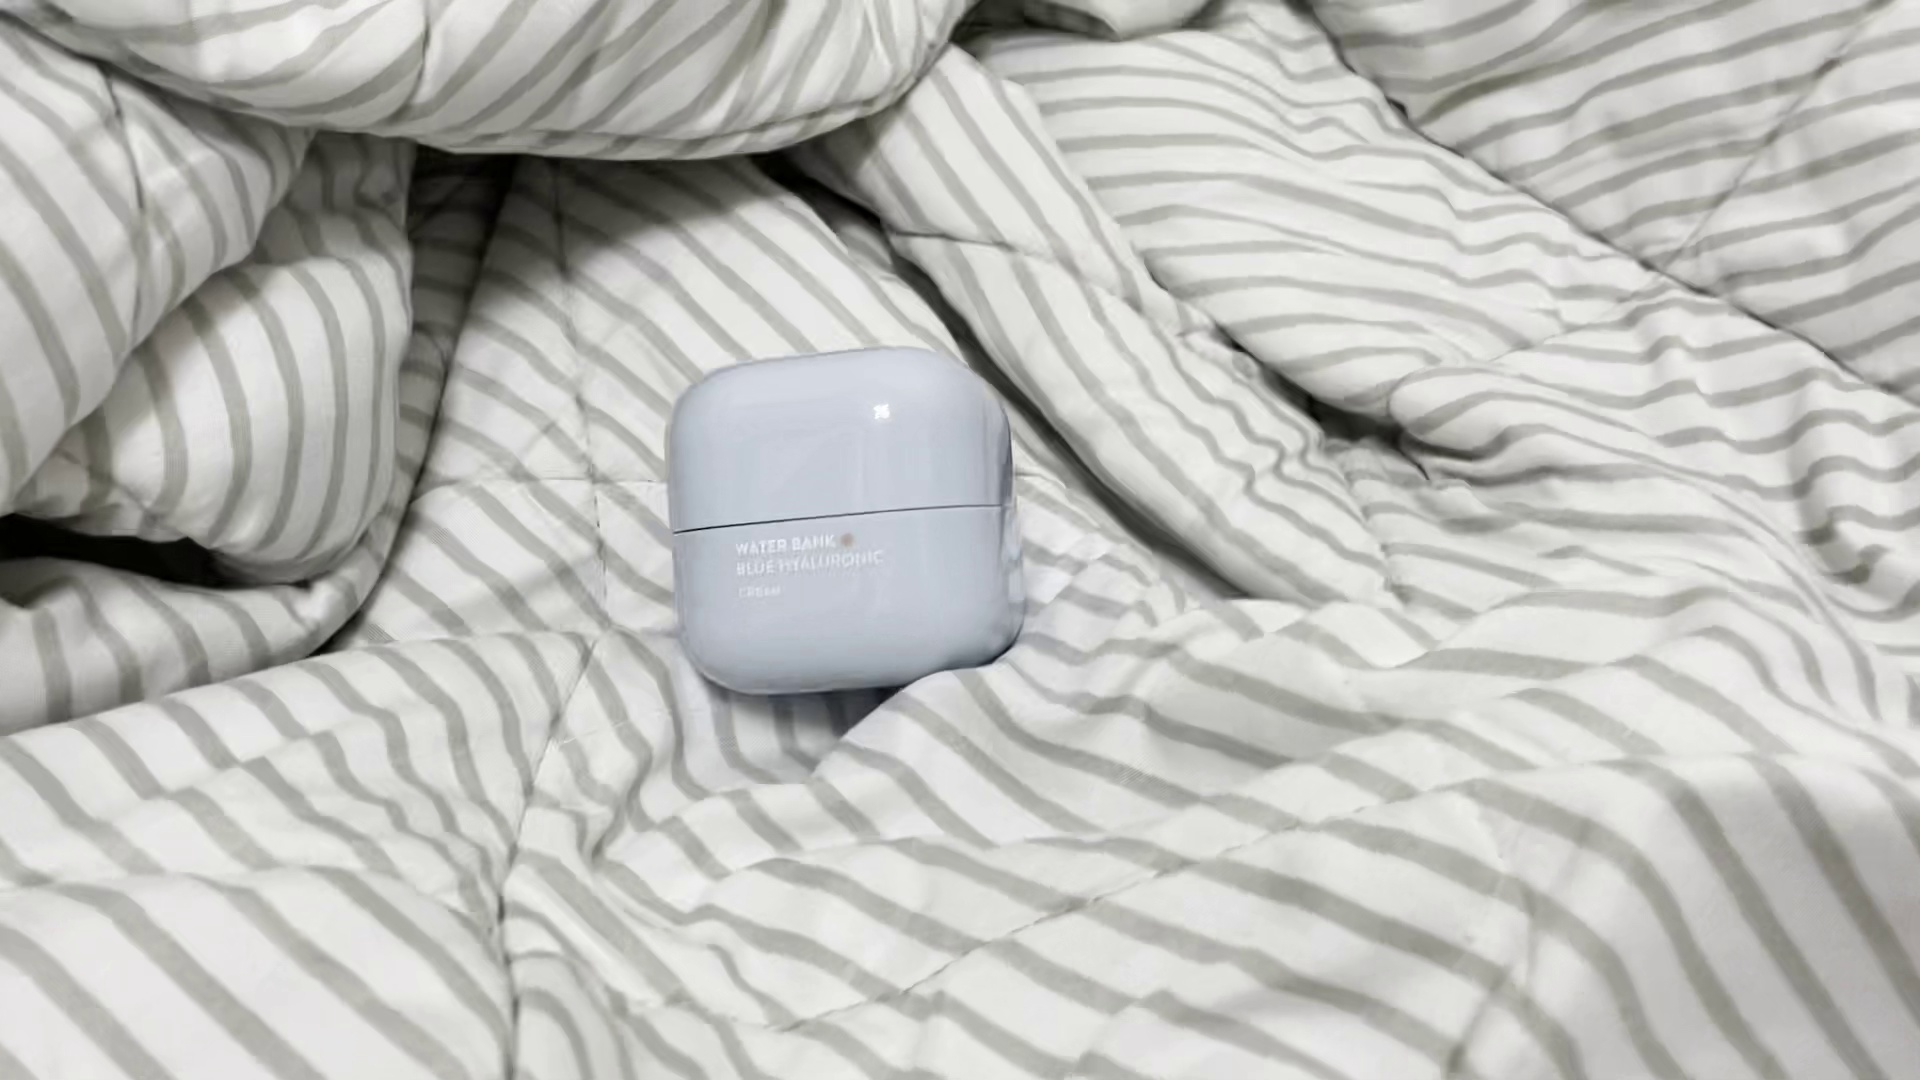cream: (665, 353, 1033, 690)
